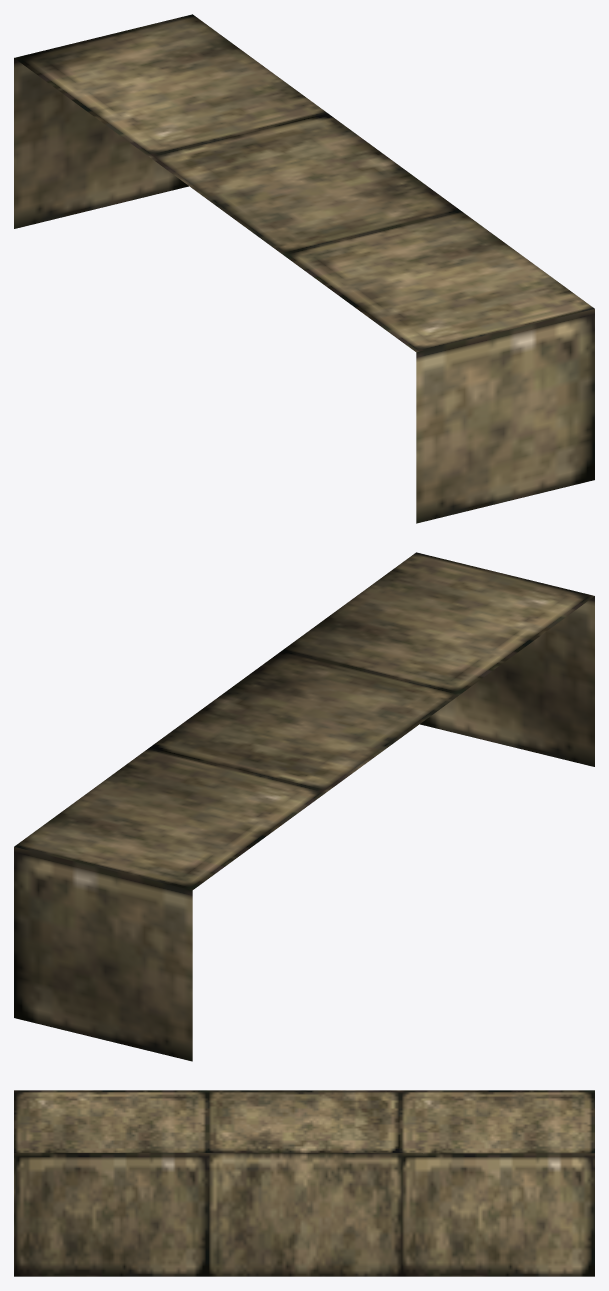
The model's file is OVERHILL_A_01_OBJECT106.fbx.
The picture shows the model from 3 angles, top to bottom: view 1: azimuth 30°, elevation 25°; view 2: azimuth 150°, elevation 25°; view 3: azimuth 270°, elevation 25°; orthographic projection. The views are drawn at different scales.
Parts seen in each view (by area): view 1: OVERHILL_A_01_OBJECT106; view 2: OVERHILL_A_01_OBJECT106; view 3: OVERHILL_A_01_OBJECT106.
Part boxes in pixels (x1,y1,x2,y2): OVERHILL_A_01_OBJECT106: (14,14,594,523); OVERHILL_A_01_OBJECT106: (14,552,594,1061); OVERHILL_A_01_OBJECT106: (14,1090,594,1276).
Size of the model in its own units: 8373 by 7663 by 32635.
1 material, 1 textured.
